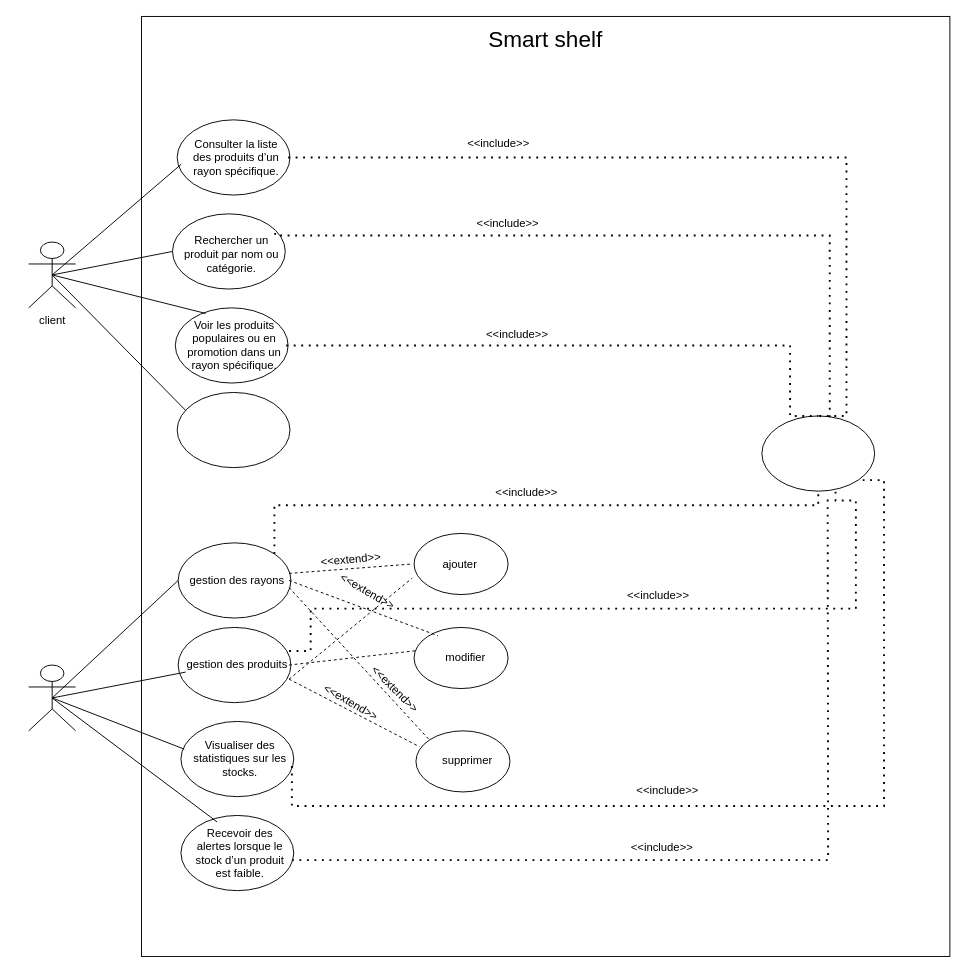
The diagram is 966 pixels wide and 973 high, and some of its shapes have lost their labels. The shapes that lost their labels are listed below. From the top down, each one's centre as x and y in pixels, then its label:
point 233,430: inscription
point 818,453: Authentification
point 52,697: administrateur
